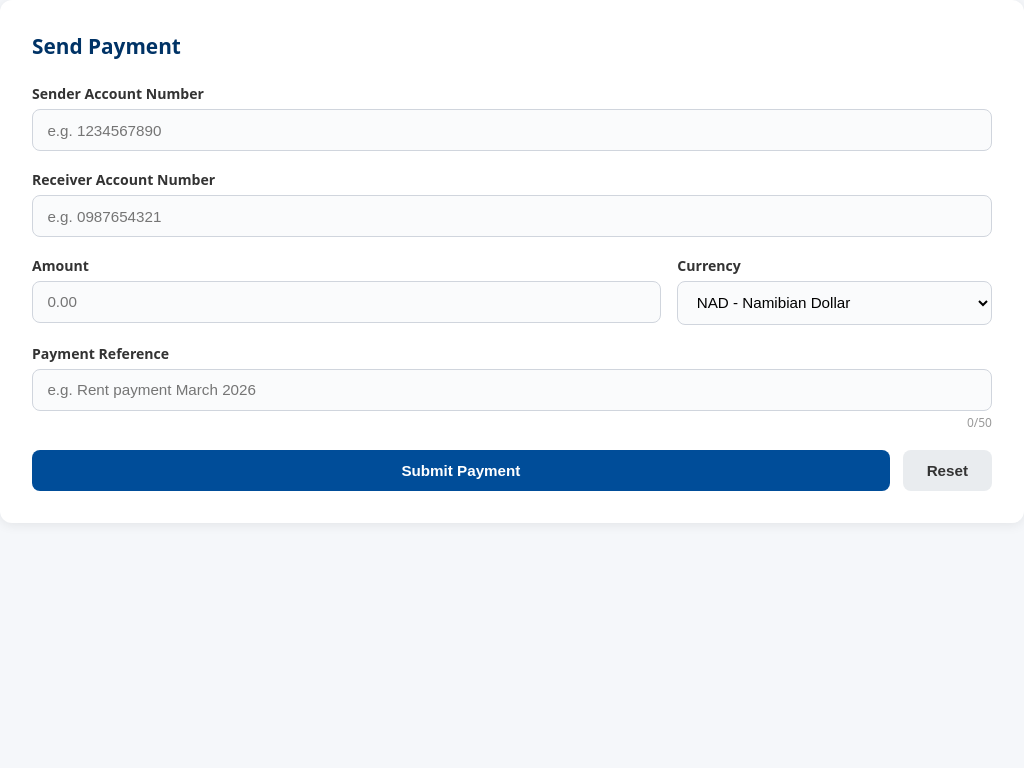
PaymentForm › Validation › shows error when receiver account number is empty
Type "1234567890" into the field labelled "Sender Account Number" at (512, 130), box [32, 109, 992, 151]
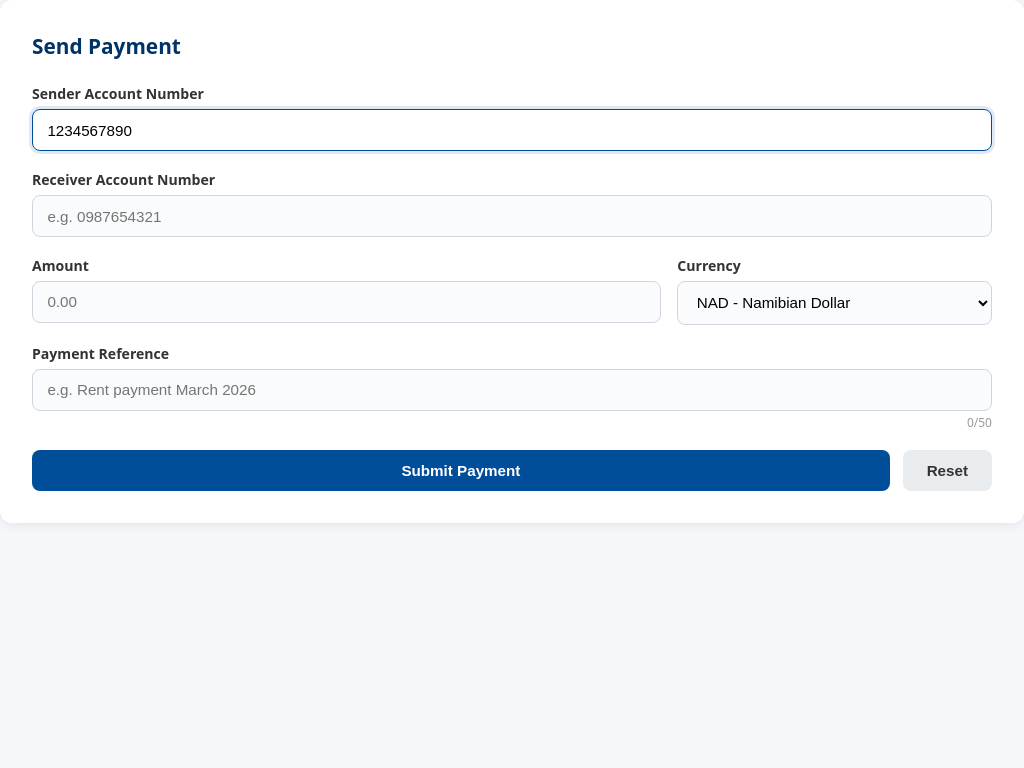
Click the button "Submit Payment" at (461, 470), box [32, 450, 890, 491]
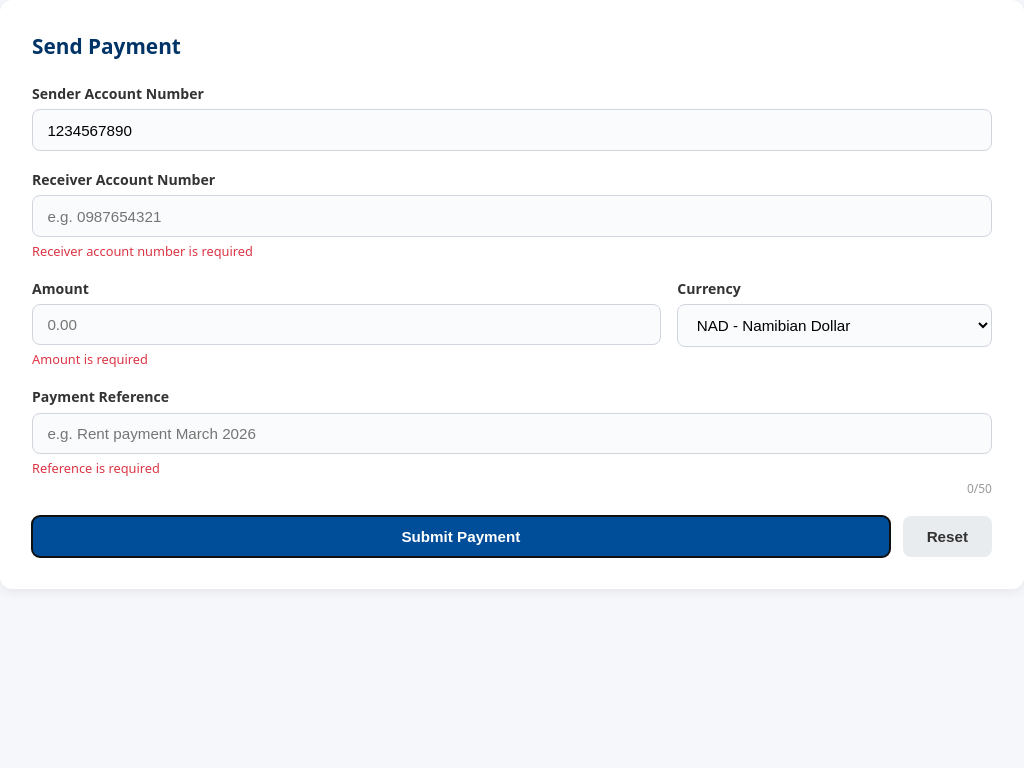
Check: the text "Receiver account number is required" is shown, box [32, 242, 253, 260]
